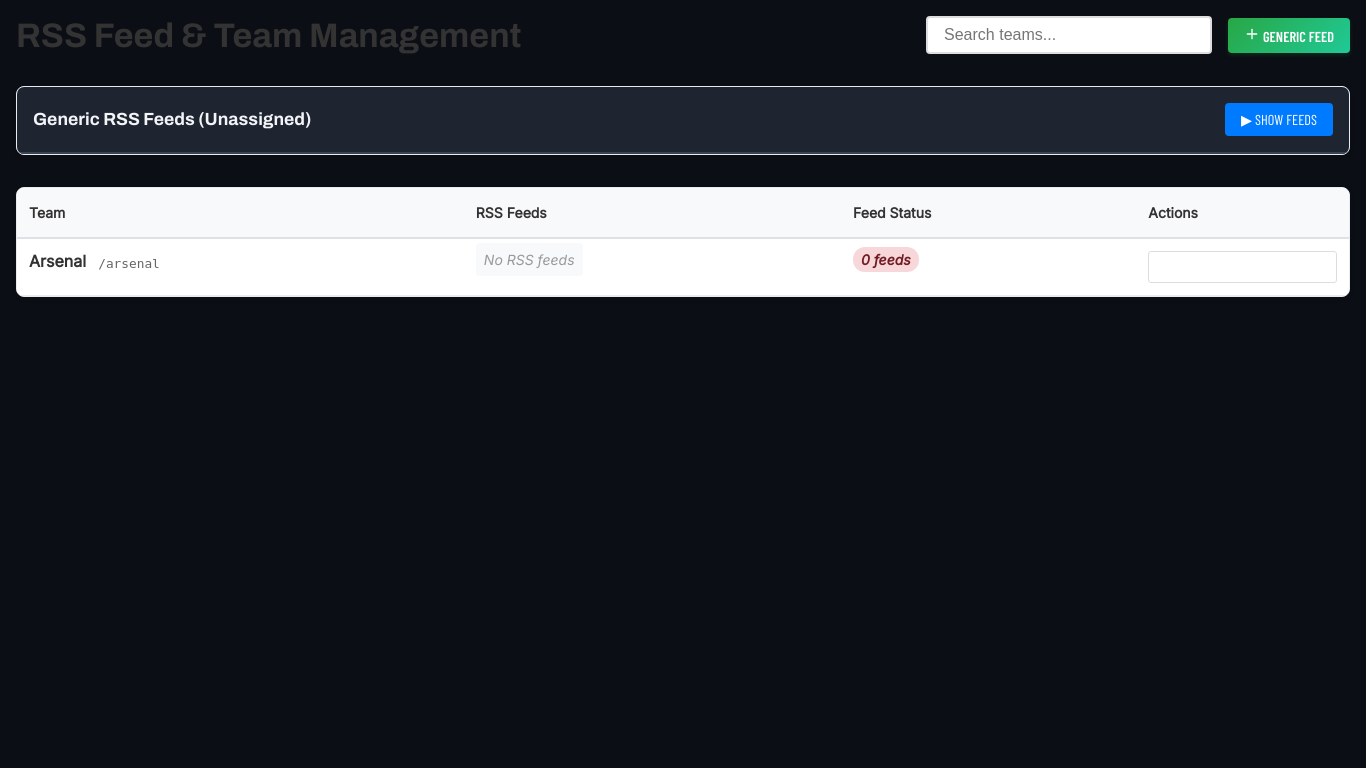
shows the server error when saving fails
Click the button titled "Add Generic RSS Feed" at point(1289, 35), box [1228, 18, 1350, 52]
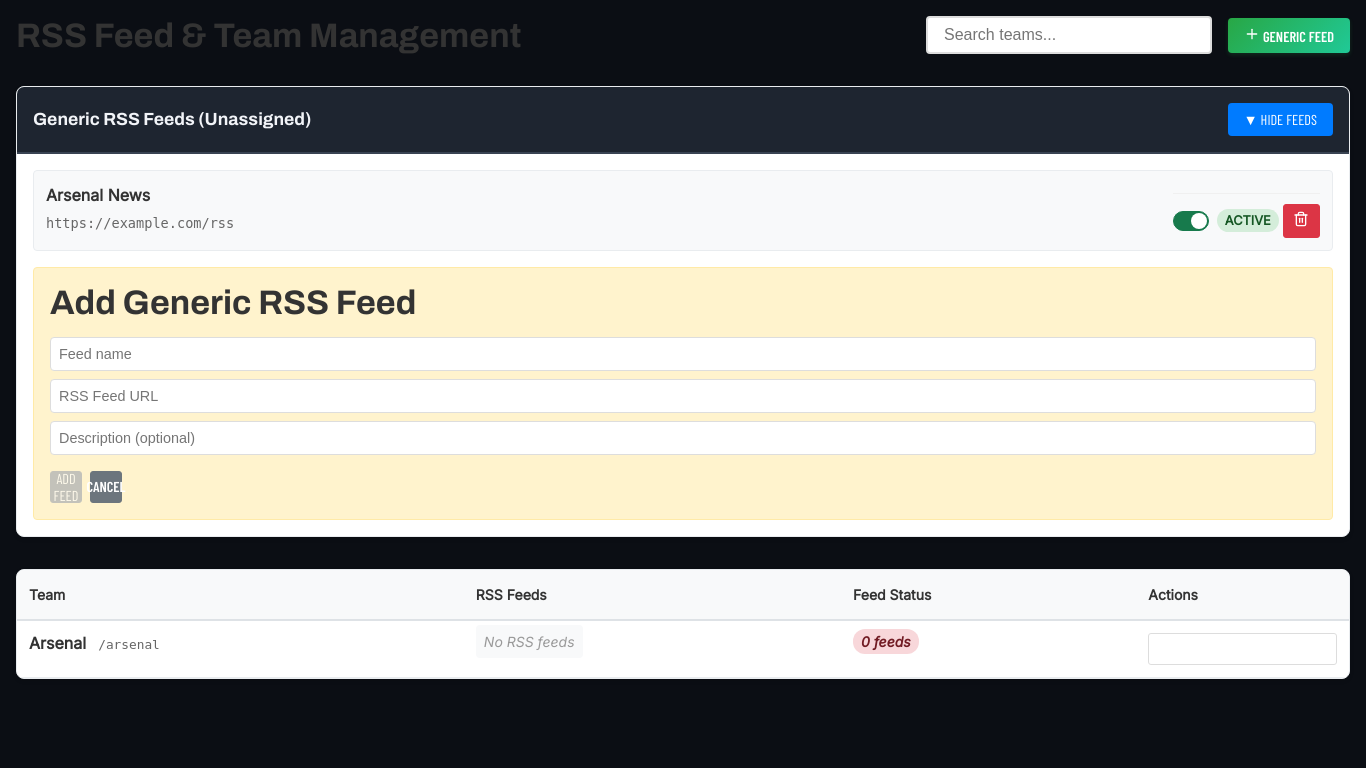
Type "New feed" into the field with placeholder "Feed name" at point(683, 354), box [50, 337, 1316, 371]
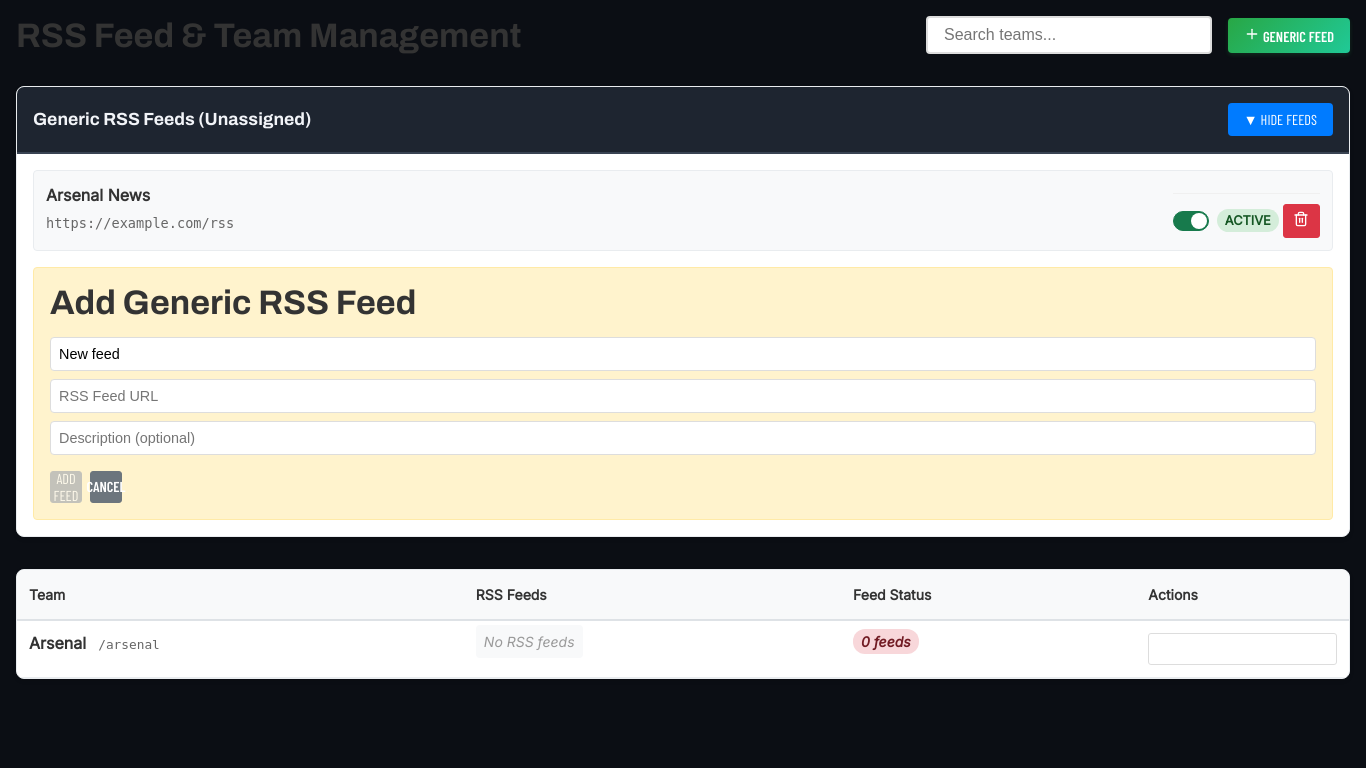
Type "https://example.com/new-rss" into the field with placeholder "RSS Feed URL" at point(683, 396), box [50, 379, 1316, 413]
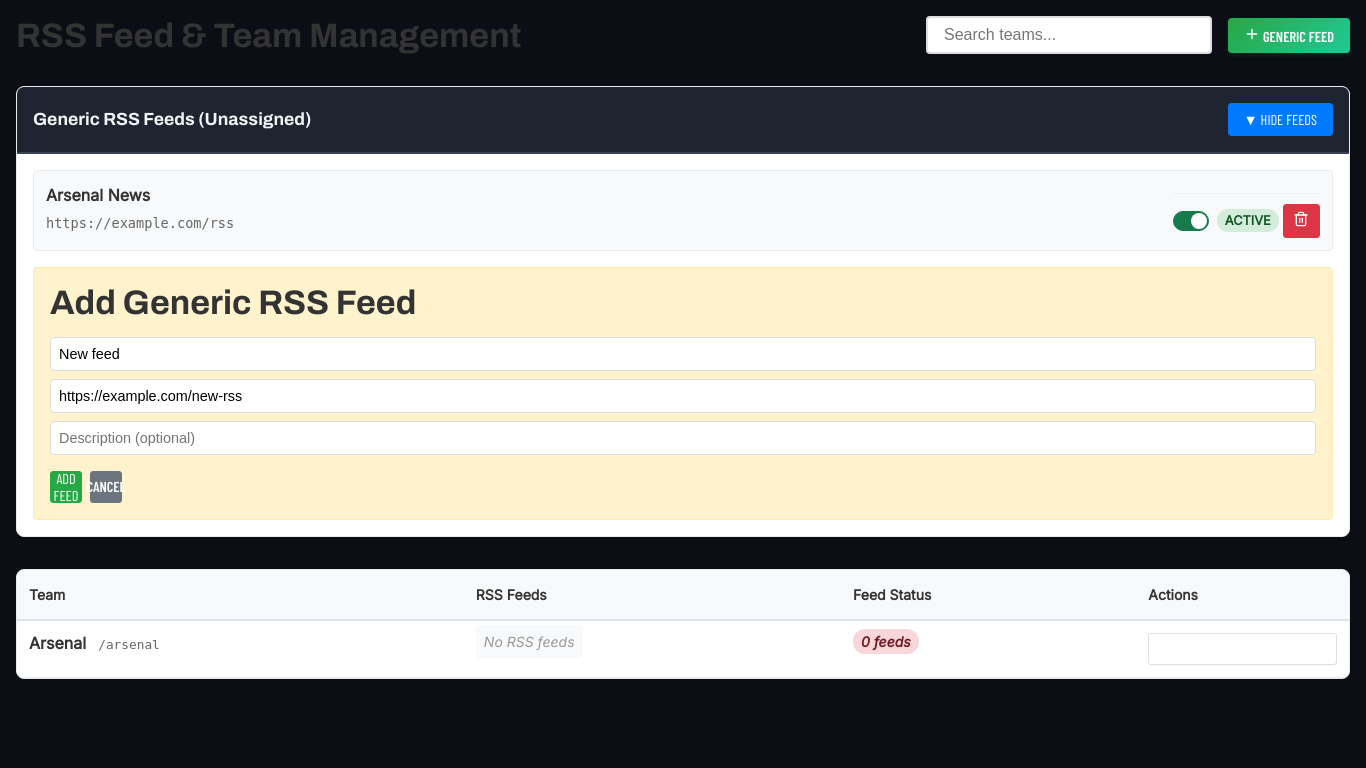
Click the button "Add Feed" at point(66, 487), box [50, 471, 82, 503]
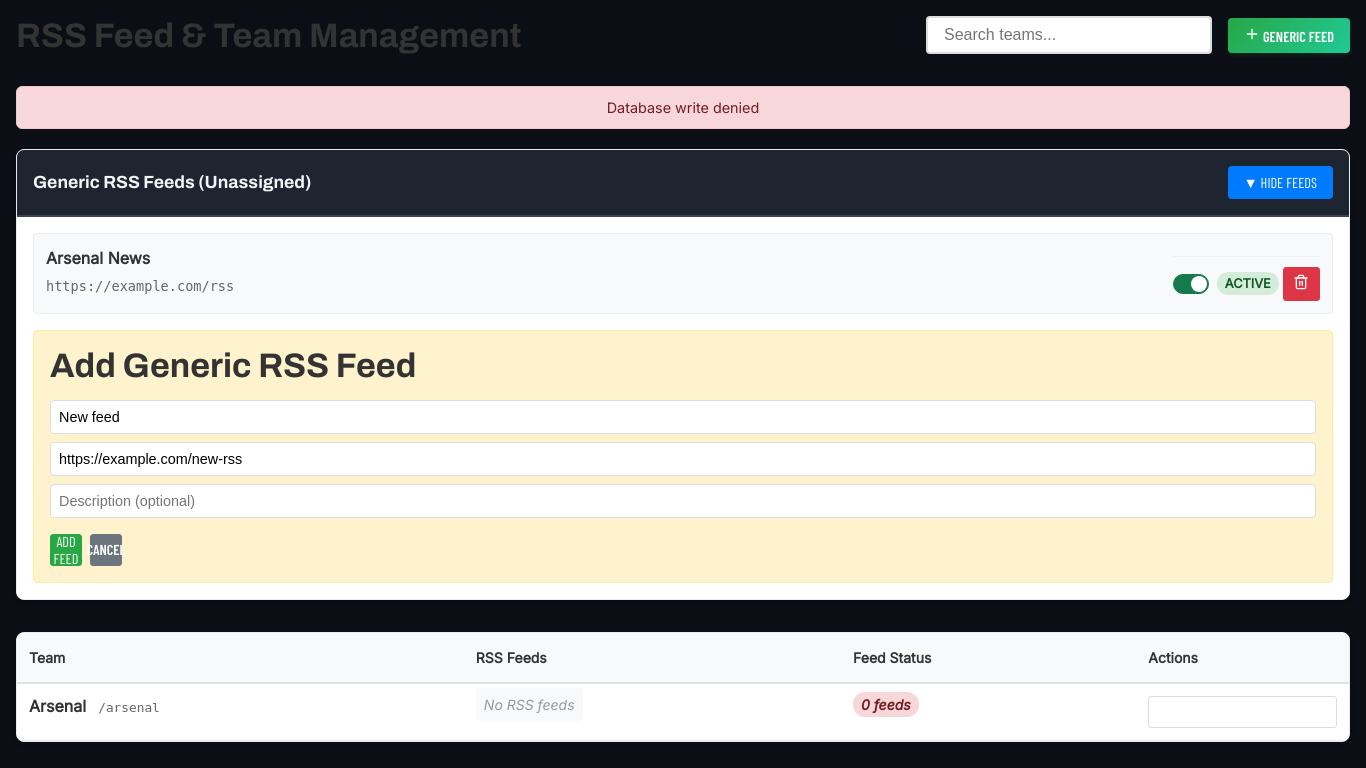
Expected: the text "Database write denied" is shown, [16, 86, 1350, 129]
